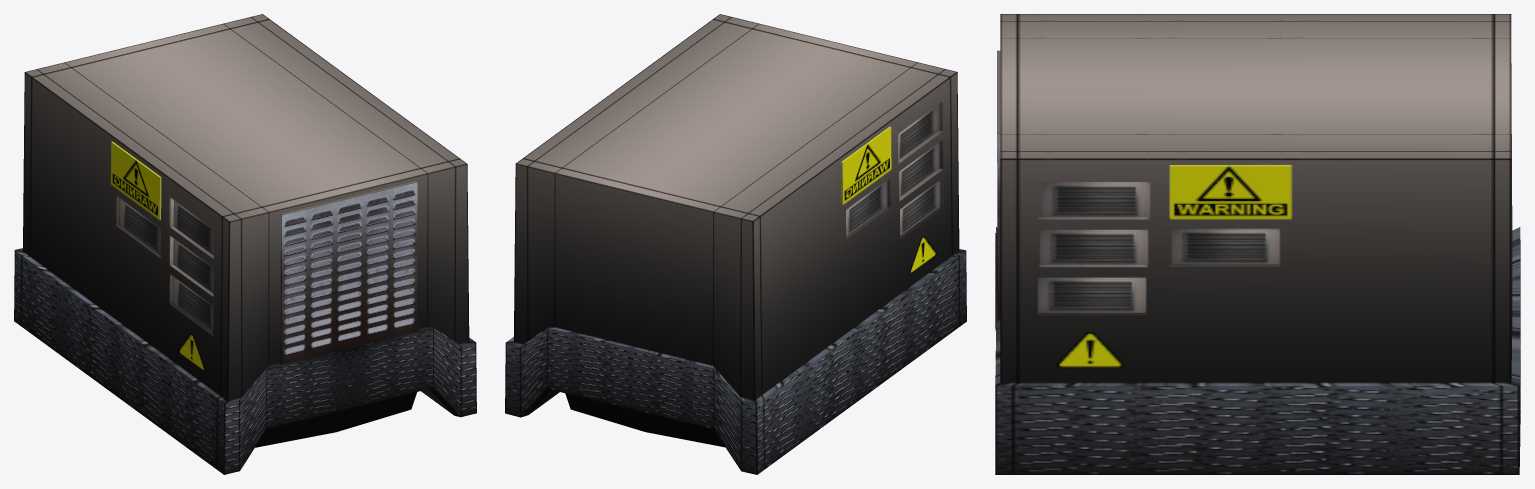
File: gennew.fbx
3 renders of one model, left to right at view 1: azimuth 30°, elevation 25°; view 2: azimuth 150°, elevation 25°; view 3: azimuth 270°, elevation 25°, orthographic. The views are drawn at different scales.
Visible parts, largest first — view 1: Cube; view 2: Cube; view 3: Cube.
Boxes of the visible parts, box(x1,y1,x2,y2) form: Cube: box(14, 14, 476, 474); Cube: box(505, 14, 966, 474); Cube: box(995, 14, 1520, 474).
Bounding box in the file's own units: 428 × 404 × 617.
